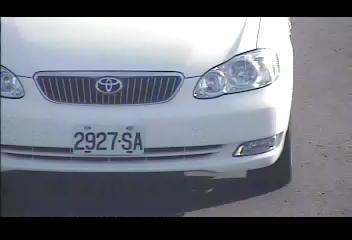plate: (69, 123, 145, 155)
